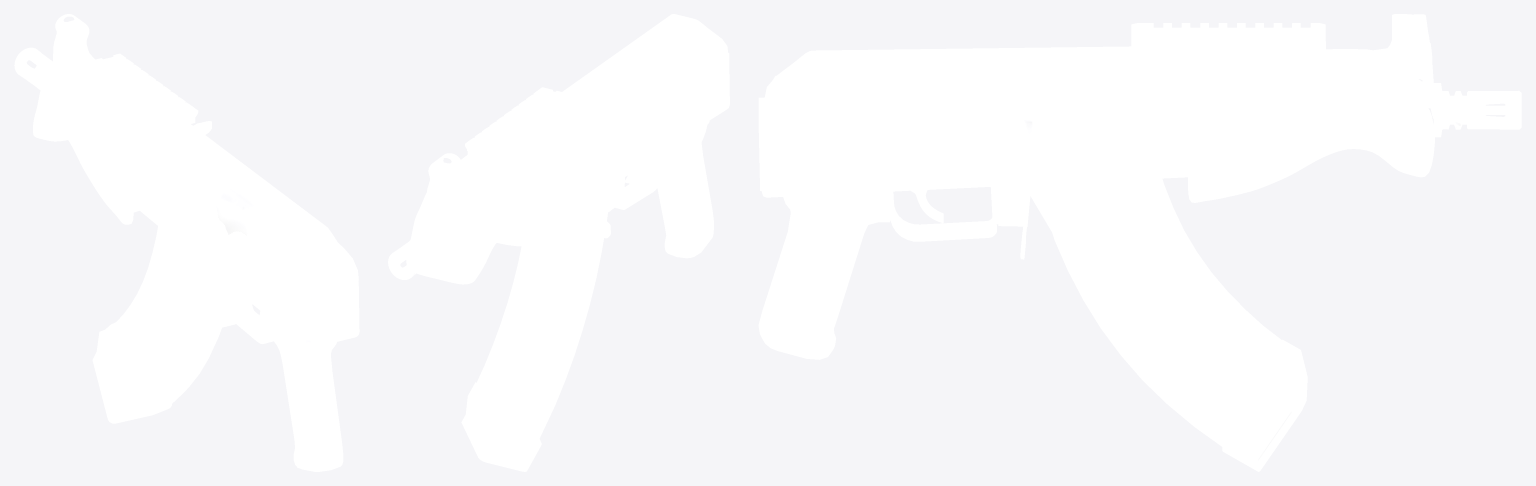
Rendered from gun_draco.glb.
The picture shows the model from 3 angles, left to right: view 1: azimuth 30°, elevation 25°; view 2: azimuth 150°, elevation 25°; view 3: azimuth 270°, elevation 25°; orthographic projection. The views are drawn at different scales.
Parts seen in each view (by area): view 1: Draco_Gun, Draco_Magazine; view 2: Draco_Gun, Draco_Magazine; view 3: Draco_Gun, Draco_Magazine.
Boxes of the visible parts, x1=… form: Draco_Gun: x1=14, y1=14, x2=359, y2=471; Draco_Magazine: x1=92, y1=226, x2=221, y2=423; Draco_Gun: x1=388, y1=14, x2=729, y2=284; Draco_Magazine: x1=461, y1=183, x2=611, y2=471; Draco_Gun: x1=758, y1=14, x2=1521, y2=359; Draco_Magazine: x1=1030, y1=104, x2=1307, y2=471.
Bounding box in the file's own units: 349 × 1233 × 1924.
Materials: 1 (1 with a texture image).
